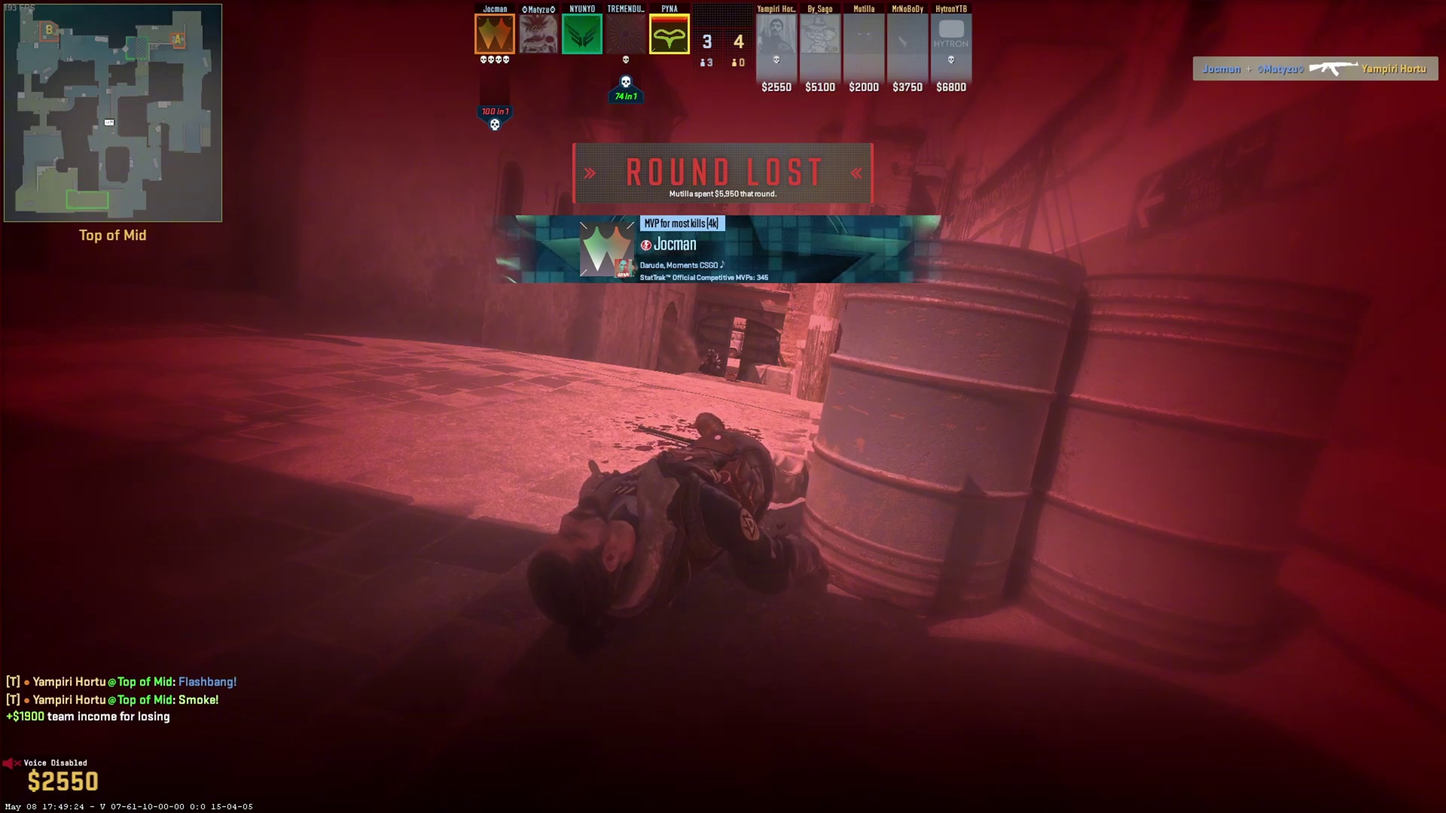CT: (700, 349, 722, 376)
